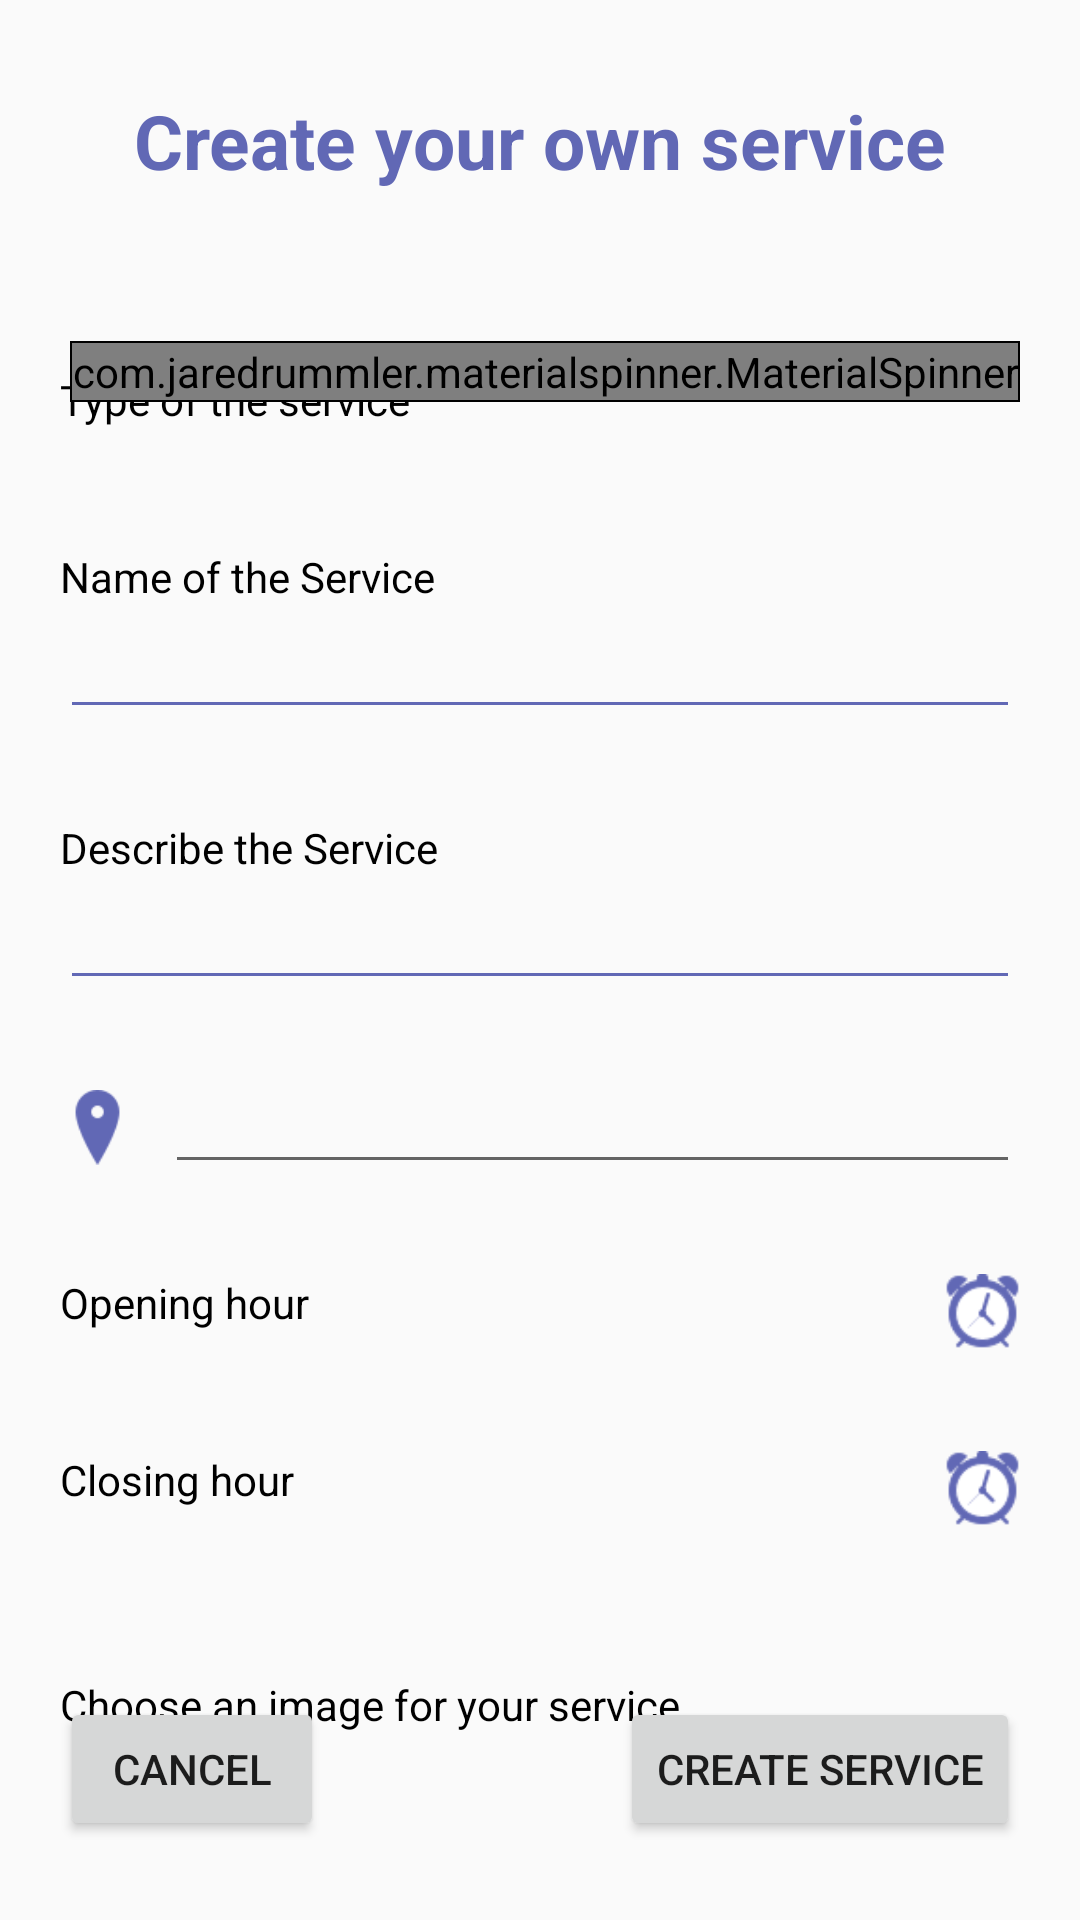

Named icons in this screenshot (1080*1920) and their centers, (x,y):
clock: (982,1311), (982,1488)
location: (97,1127)
